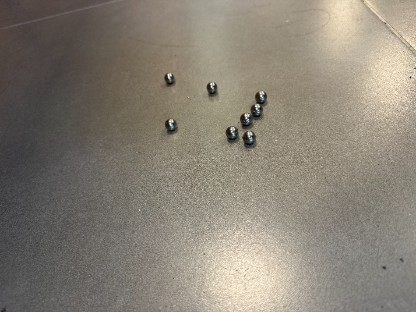ironball: (242, 130, 255, 144), (225, 126, 238, 139), (239, 112, 252, 125), (250, 103, 262, 116), (164, 118, 176, 130), (255, 90, 266, 103), (206, 81, 217, 93), (164, 72, 174, 84)
